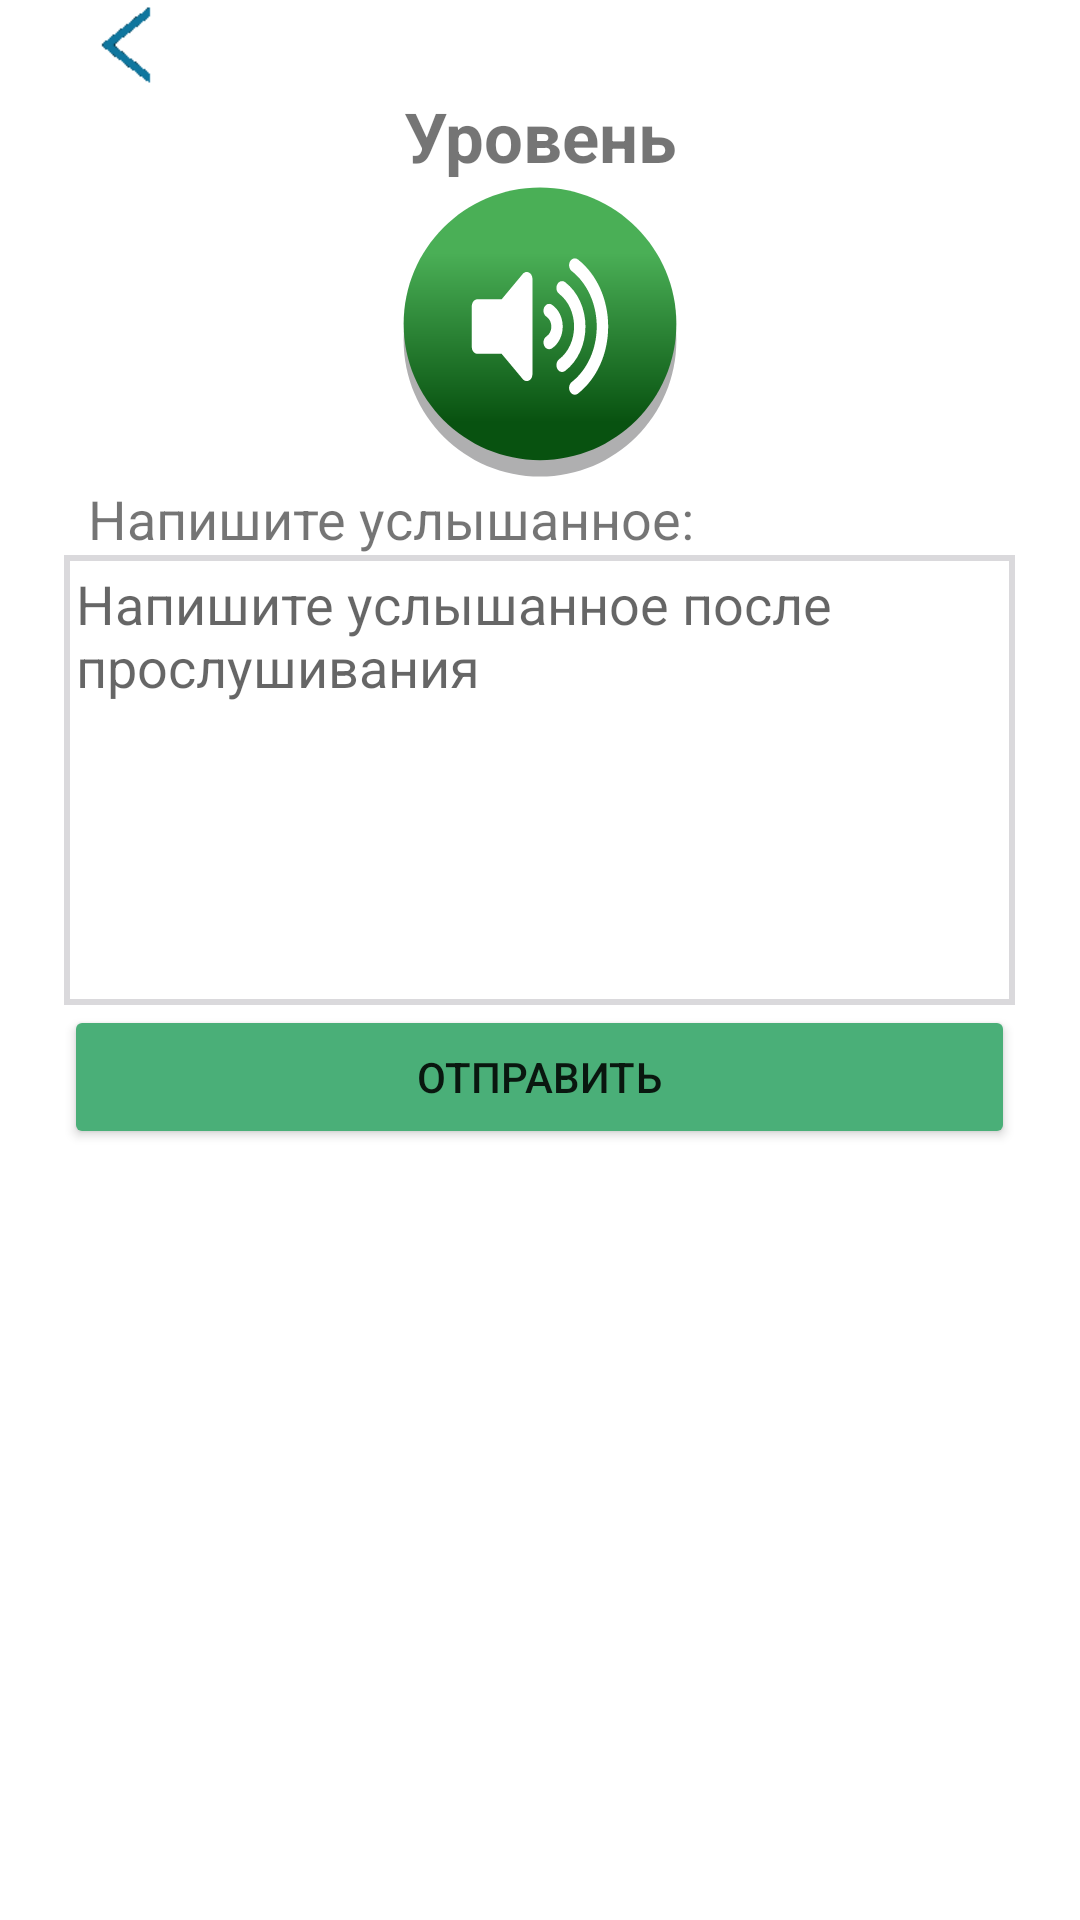

Named icons in this screenshot (1080 x 1920) and their bounding boxes, (x1, y1, x2, y2):
back: (101, 7, 151, 83)
listen: (403, 187, 677, 477)
